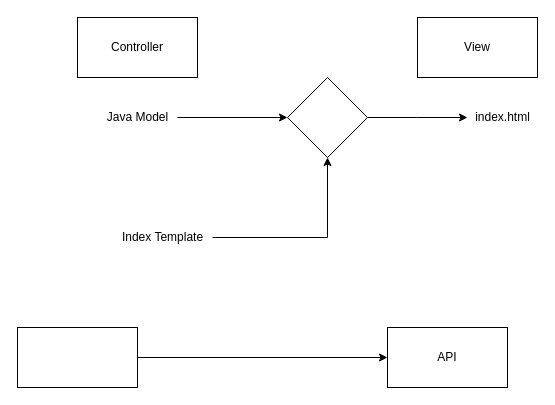
This 555x405 diagram has some shape labels left out. The centre of each missing label's shape, as x and y in pixels:
"Thymeleaf" goes at (327,117).
"UI" goes at (77,357).
